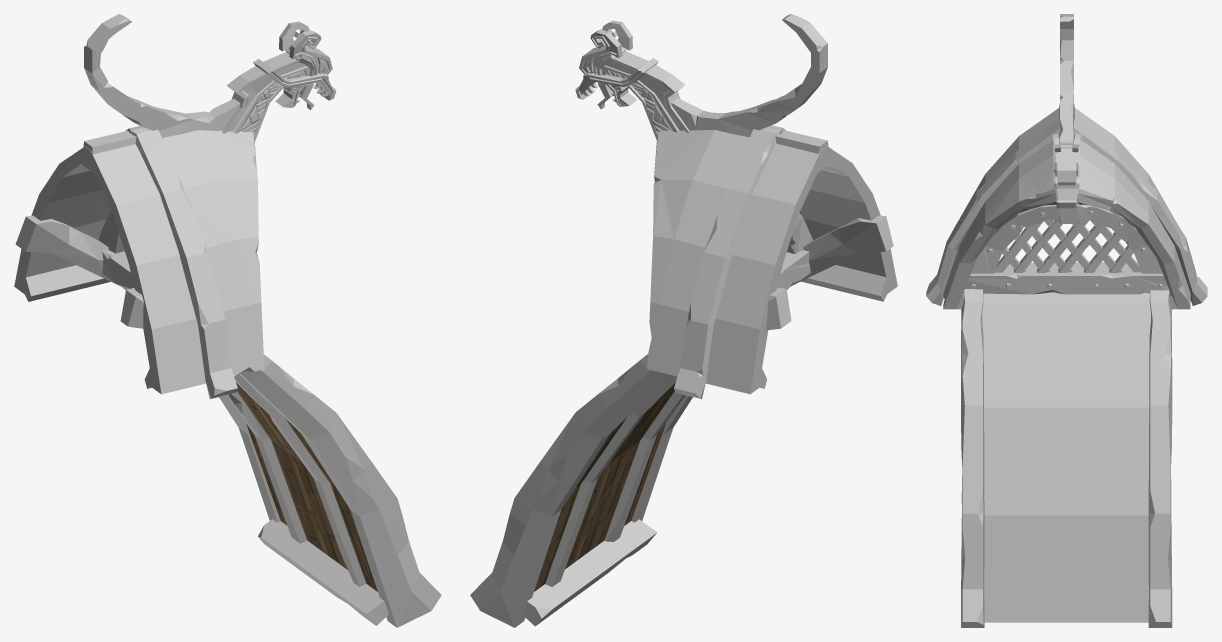
File: SM_Bld_Hall_Roof_Window_Large_01.fbx
3 views of the same model, side by side, from view 1: azimuth 30°, elevation 25°; view 2: azimuth 150°, elevation 25°; view 3: azimuth 270°, elevation 25° (orthographic). The views are drawn at different scales.
Visible parts, largest first — view 1: SM_Bld_Hall_Roof_Window_Large_01; view 2: SM_Bld_Hall_Roof_Window_Large_01; view 3: SM_Bld_Hall_Roof_Window_Large_01.
Boxes of the visible parts, x1,y1,x2,y2 form: SM_Bld_Hall_Roof_Window_Large_01: [14, 14, 441, 627]; SM_Bld_Hall_Roof_Window_Large_01: [470, 14, 897, 627]; SM_Bld_Hall_Roof_Window_Large_01: [926, 14, 1207, 627].
Size of the model in its own units: 790 by 1524 by 747.
